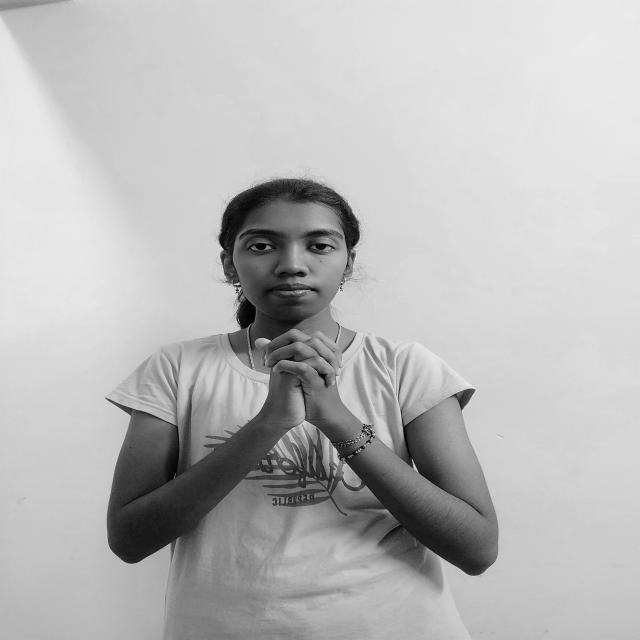Sorry: (246, 325, 350, 443)
